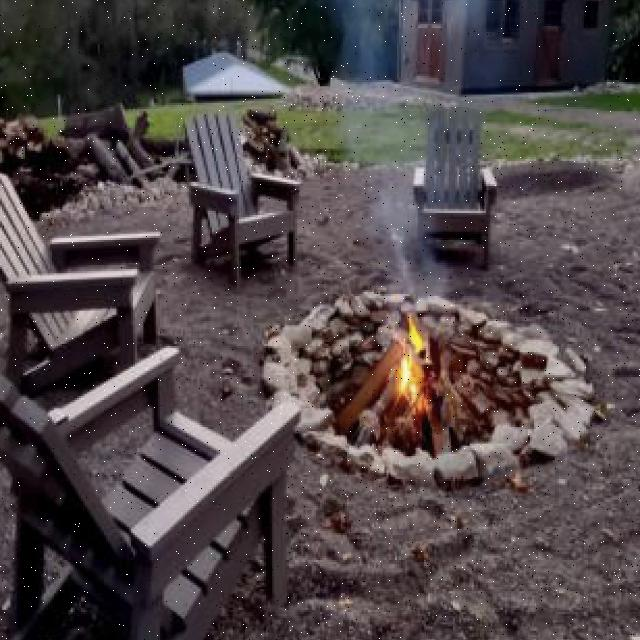fire: (395, 321, 428, 419)
smoke: (368, 144, 446, 330)
